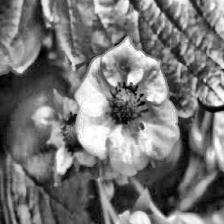Blossom Blight: (103, 79, 152, 134)
